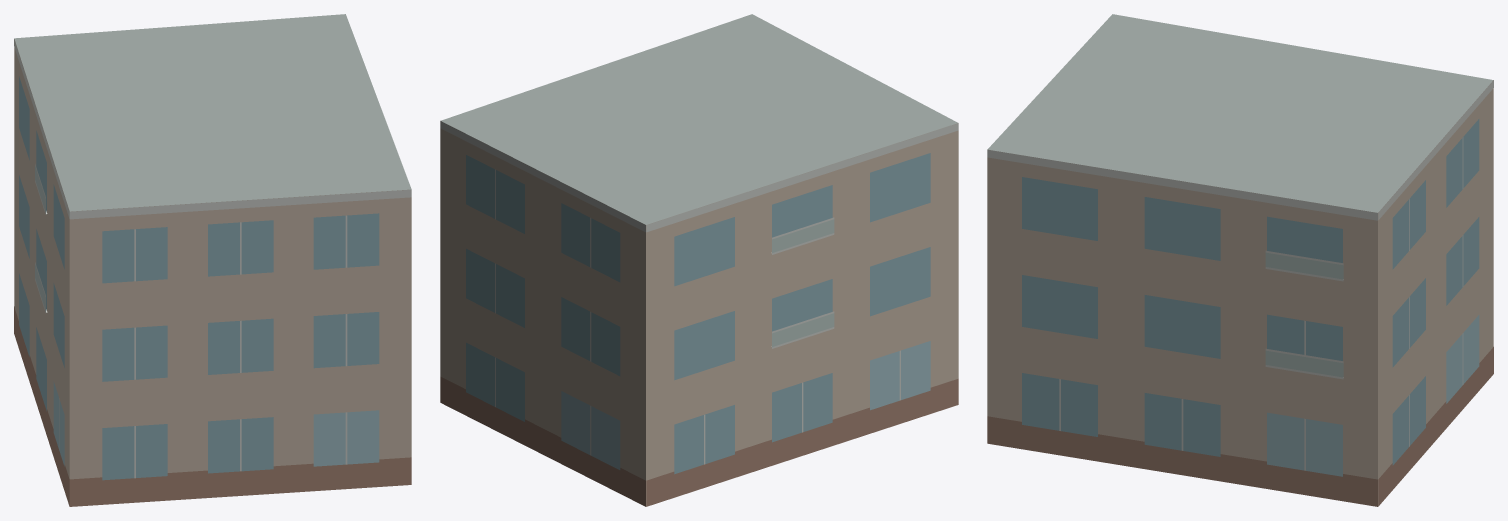
Rendered from survey-upis-32607590.glb.
3 views of the same model, side by side, from view 1: azimuth 30°, elevation 25°; view 2: azimuth 150°, elevation 25°; view 3: azimuth 270°, elevation 25° (orthographic). The views are drawn at different scales.
Parts seen in each view (by area): view 1: survey-upis-32607590.tmp; view 2: survey-upis-32607590.tmp; view 3: survey-upis-32607590.tmp.
Boxes of the visible parts, x1=… form: survey-upis-32607590.tmp: x1=14, y1=14, x2=411, y2=506; survey-upis-32607590.tmp: x1=440, y1=14, x2=958, y2=506; survey-upis-32607590.tmp: x1=987, y1=14, x2=1493, y2=506.
Size of the model in its own units: 13.29 by 9.15 by 14.29.
